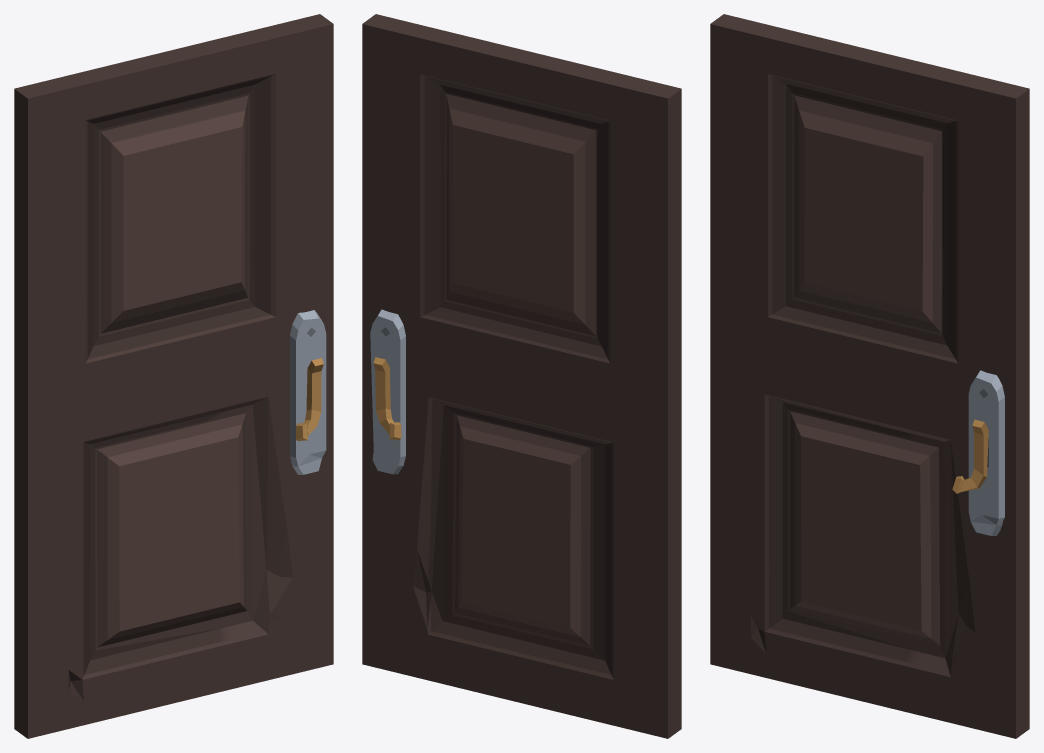
File: SM_Bld_Casino_Door_04.fbx
The picture shows the model from 3 angles, left to right: view 1: azimuth 30°, elevation 25°; view 2: azimuth 150°, elevation 25°; view 3: azimuth 330°, elevation 25°; orthographic projection.
Visible parts, largest first — view 1: SM_Bld_Casino_Door_04; view 2: SM_Bld_Casino_Door_04; view 3: SM_Bld_Casino_Door_04.
Part boxes in pixels (<box>): SM_Bld_Casino_Door_04: <box>14,14,333,738</box>; SM_Bld_Casino_Door_04: <box>362,14,681,738</box>; SM_Bld_Casino_Door_04: <box>710,14,1029,738</box>.
Bounding box in the file's own units: 100 × 200 × 25.95.
